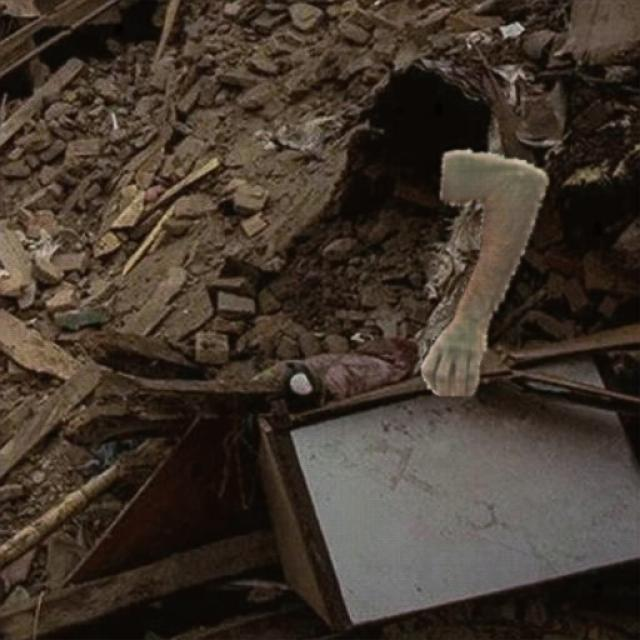Person in Rubble: (420, 149, 548, 395)
